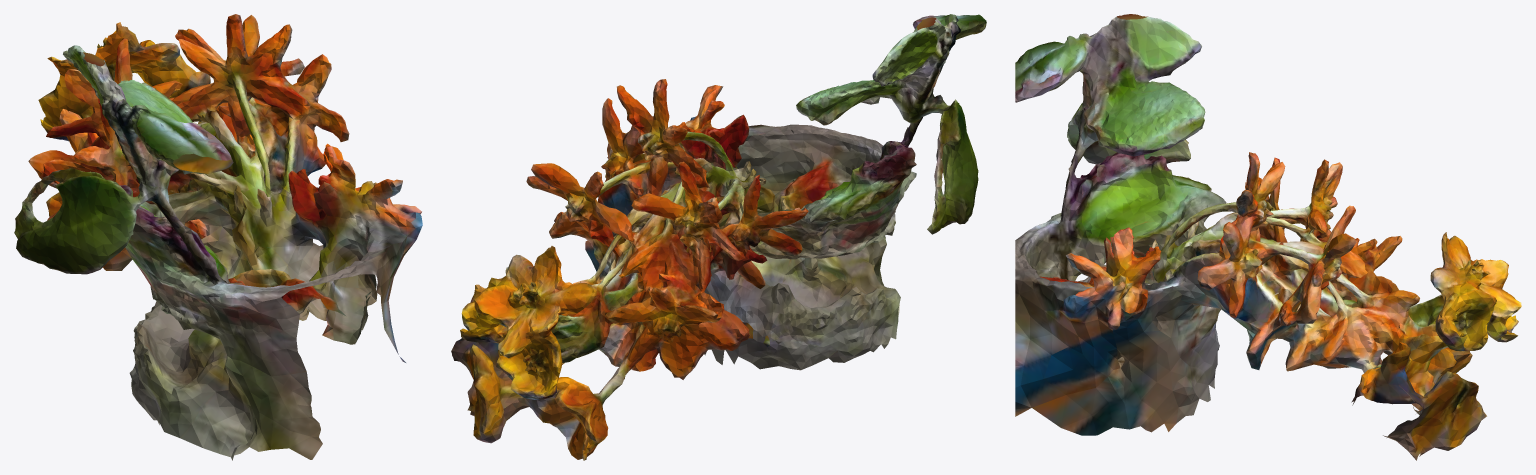
Rendered from flower1.glb.
The picture shows the model from 3 angles, left to right: view 1: azimuth 30°, elevation 25°; view 2: azimuth 150°, elevation 25°; view 3: azimuth 270°, elevation 25°; orthographic projection. The views are drawn at different scales.
Visible parts, largest first — view 1: Mesh_0; view 2: Mesh_0; view 3: Mesh_0.
Part boxes in pixels (box(x1,y1,x2,y2)): Mesh_0: box(14, 14, 422, 460); Mesh_0: box(451, 14, 986, 460); Mesh_0: box(1015, 14, 1521, 460).
Size of the model in its own units: 1.03 by 0.9735 by 1.38.
1 material, 1 textured.
